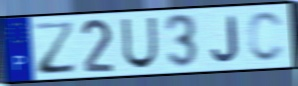2: (81, 17, 115, 73)
3: (165, 12, 198, 71)
C: (247, 10, 287, 65)
J: (210, 14, 241, 64)
U: (120, 16, 159, 71)
Z: (32, 19, 79, 77)
